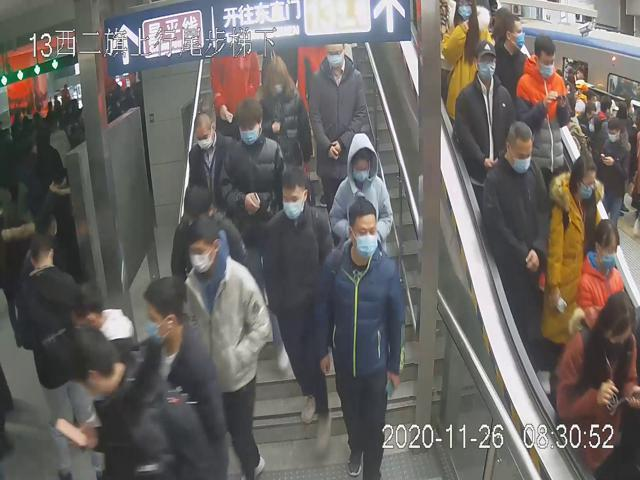person: (314, 197, 406, 480), (185, 215, 272, 479), (262, 168, 339, 458), (481, 117, 549, 363), (453, 36, 519, 200), (306, 41, 371, 198), (327, 126, 395, 267), (221, 96, 286, 234), (516, 32, 570, 184), (253, 52, 314, 182), (170, 184, 248, 283), (185, 110, 236, 200)
